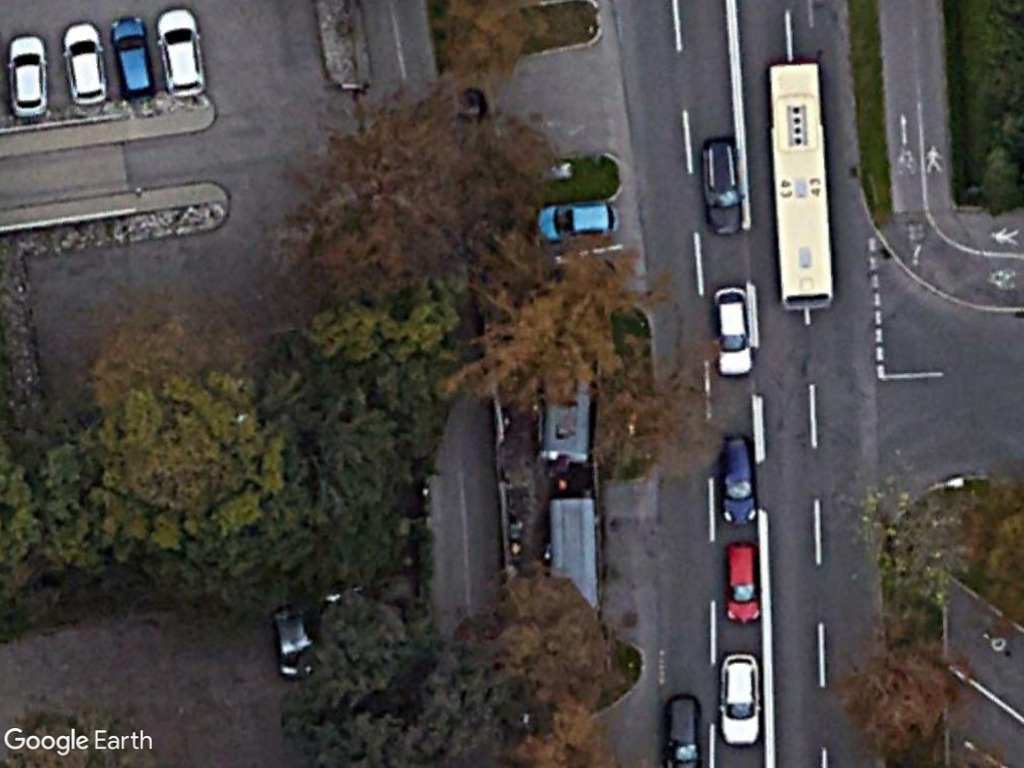bus: (766, 56, 839, 315)
car: (154, 5, 206, 102), (698, 136, 746, 236), (710, 280, 757, 381), (717, 649, 764, 750), (61, 21, 111, 110), (4, 33, 51, 121), (717, 432, 759, 530), (109, 16, 155, 100), (533, 199, 622, 242), (723, 538, 765, 626)
